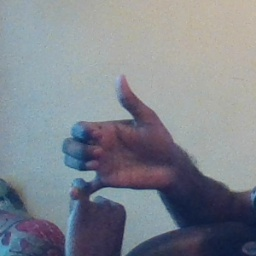S: (57, 68, 166, 242)
